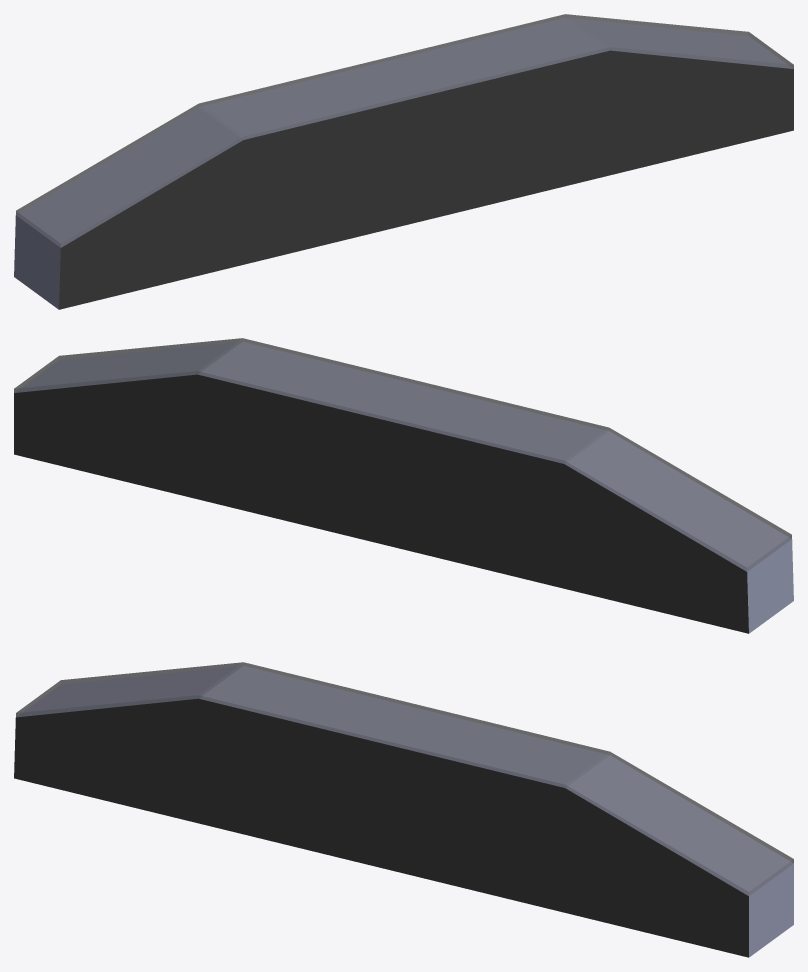
File: bar4.fbx
The picture shows the model from 3 angles, top to bottom: view 1: azimuth 30°, elevation 25°; view 2: azimuth 150°, elevation 25°; view 3: azimuth 330°, elevation 25°; orthographic projection.
Visible parts, largest first — view 1: skp5169_1; view 2: skp5169_1; view 3: skp5169_1.
Part boxes in pixels (<box>): skp5169_1: <box>14,14,793,309</box>; skp5169_1: <box>14,338,793,633</box>; skp5169_1: <box>14,662,793,957</box>.
Size of the model in its own units: 3164 by 528 by 336.
